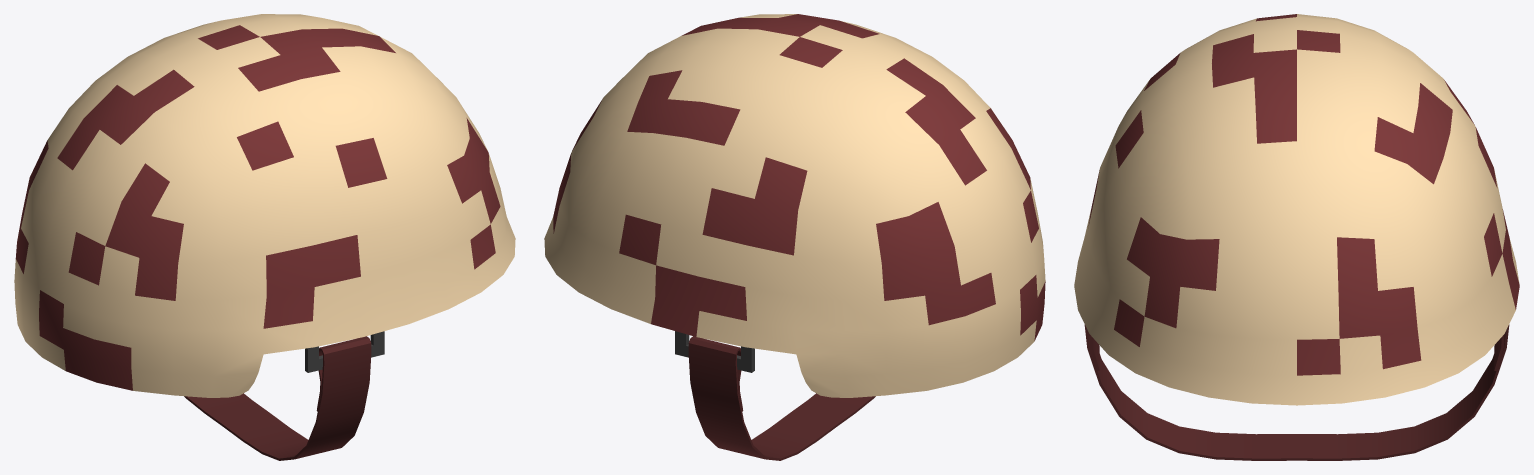
The model's file is military_helmet.fbx.
3 renders of one model, left to right at view 1: azimuth 30°, elevation 25°; view 2: azimuth 150°, elevation 25°; view 3: azimuth 270°, elevation 25°, orthographic. The views are drawn at different scales.
Visible parts, largest first — view 1: Circle.1815; view 2: Circle.1815; view 3: Circle.1815.
Boxes of the visible parts, box(x1,y1,x2,y2) form: Circle.1815: box(14, 14, 515, 460); Circle.1815: box(544, 14, 1045, 460); Circle.1815: box(1074, 14, 1519, 460).
Bounding box in the file's own units: 212 × 172 × 171.
1 material, 1 textured.
